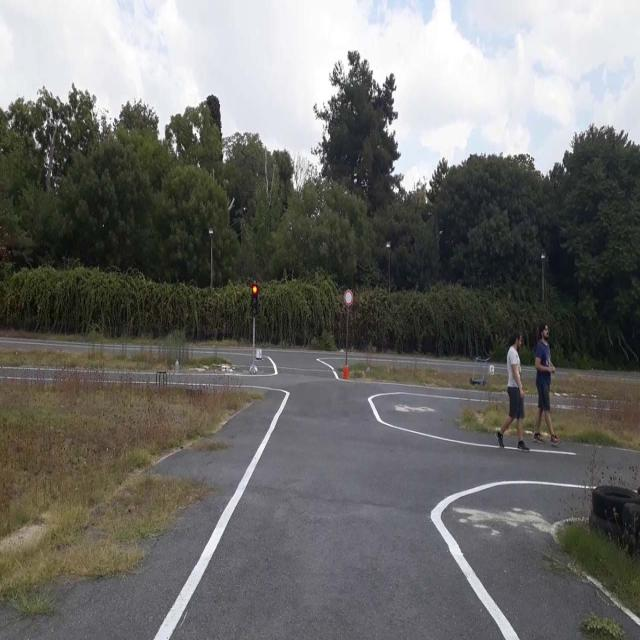kirmizi: (252, 284, 258, 313)
